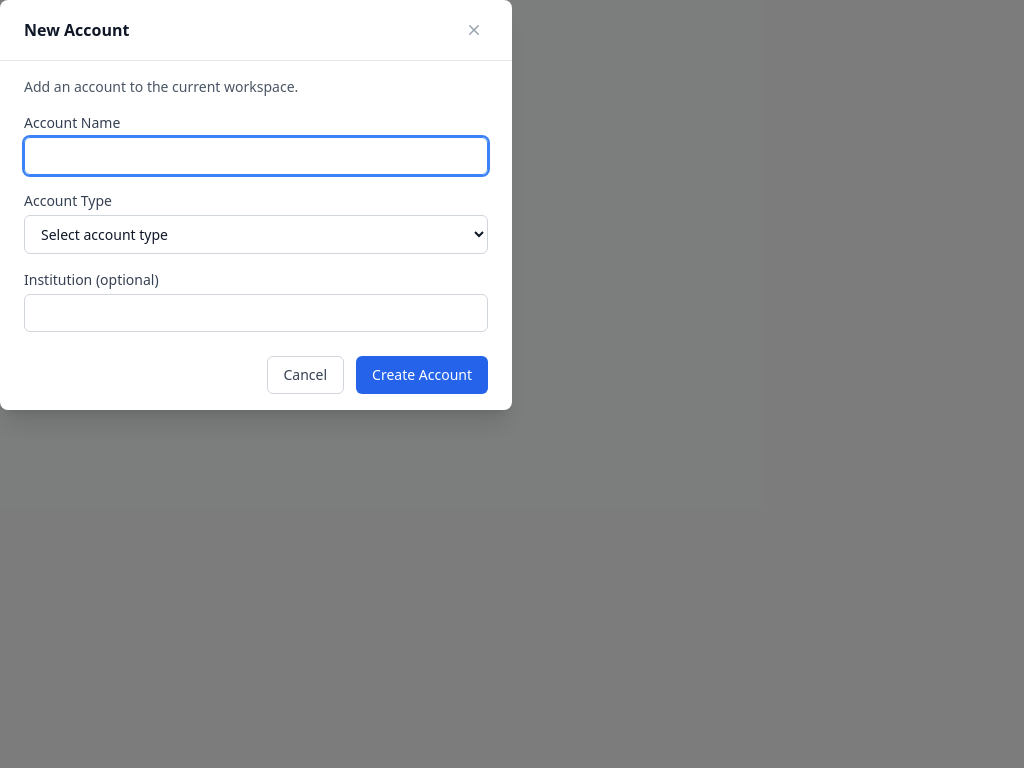
Test: CreateAccountDialog — validation › requires an account type
Type "Everyday Checking" into the field labelled "Account Name" at (256, 156), box top-left (24, 137), bottom-right (488, 175)
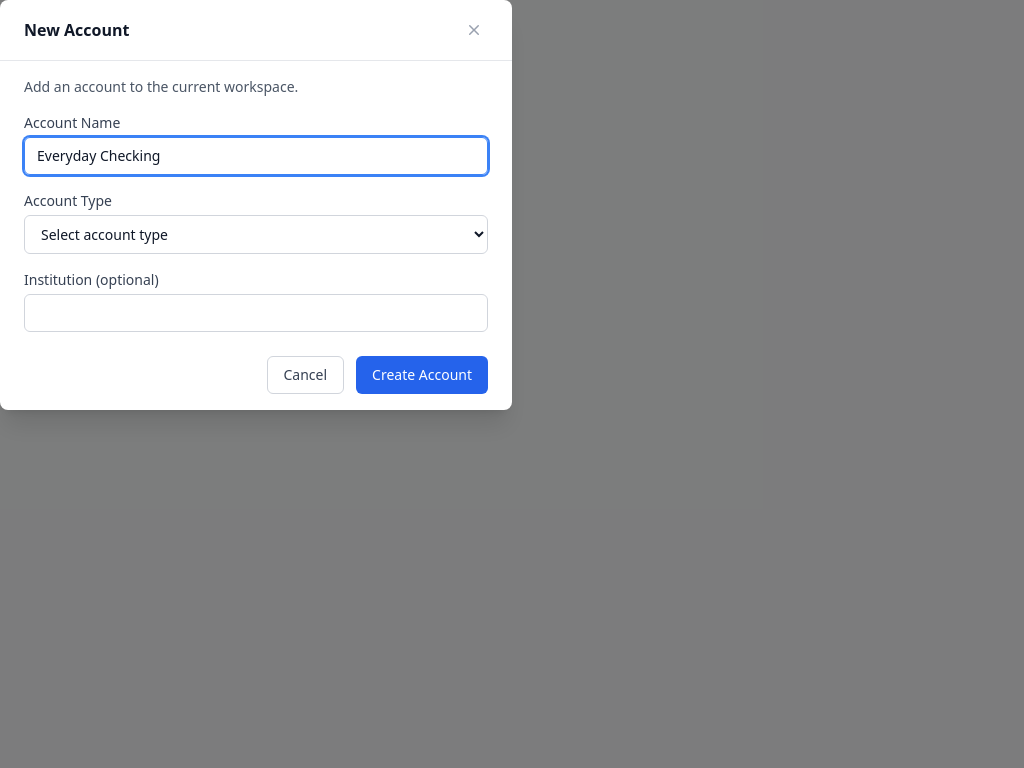
Click the button "Create Account" at (422, 375), box top-left (356, 356), bottom-right (488, 394)
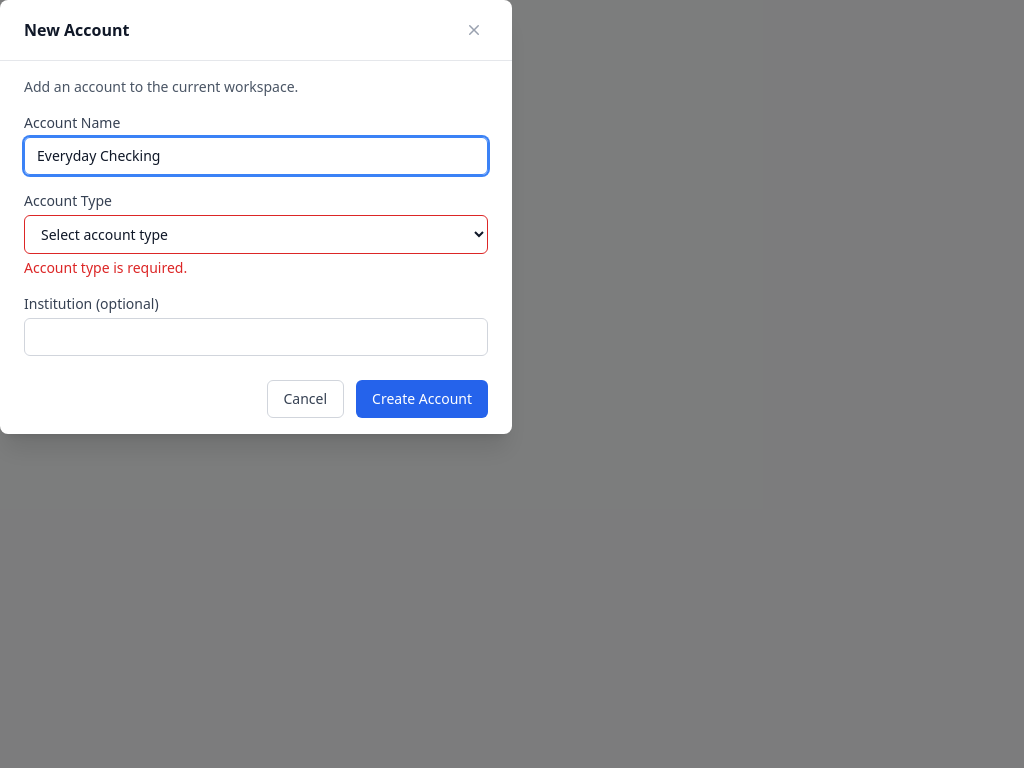
Expected: the text "Account type is required." is shown, top-left (24, 258), bottom-right (187, 277)
